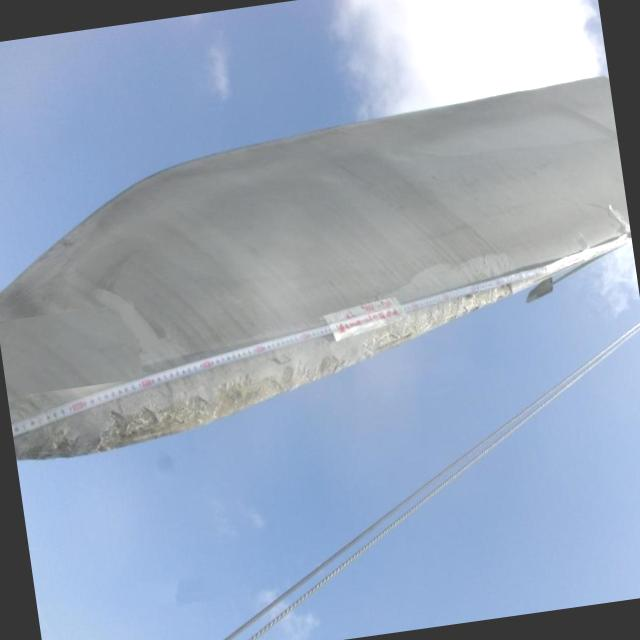corrosion: (20, 348, 357, 466), (353, 281, 512, 356)
